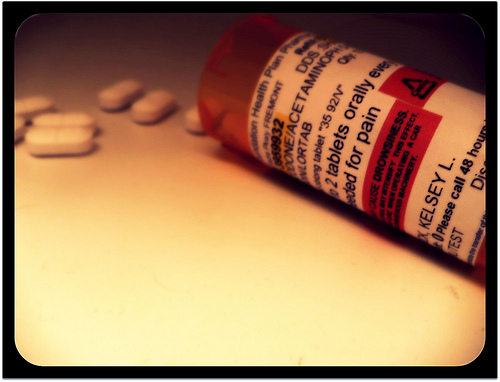pill bottle: (198, 14, 485, 272)
